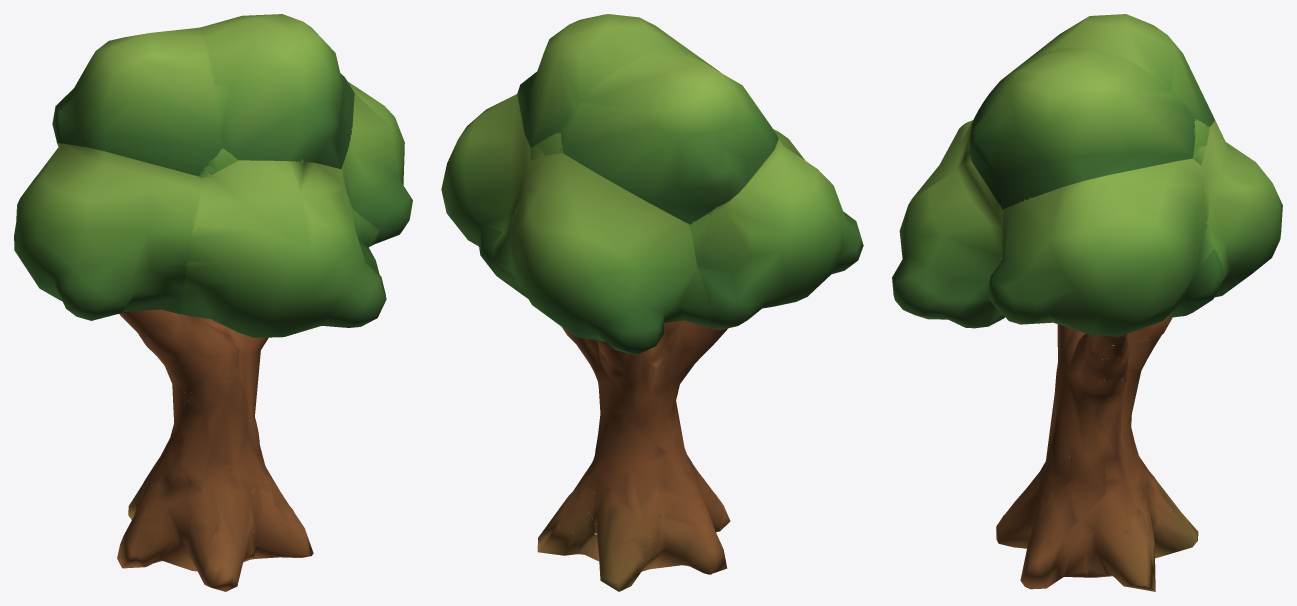
The model's file is oak-tree.glb.
3 renders of one model, left to right at view 1: azimuth 30°, elevation 25°; view 2: azimuth 150°, elevation 25°; view 3: azimuth 270°, elevation 25°, orthographic. The views are drawn at different scales.
Visible parts, largest first — view 1: crown, trunk; view 2: crown, trunk; view 3: crown, trunk.
Part boxes in pixels (box(x1,y1,x2,y2)): crown: box(14, 14, 412, 337); trunk: box(117, 309, 313, 591); crown: box(441, 14, 863, 354); trunk: box(537, 320, 730, 591); crown: box(892, 14, 1282, 336); trunk: box(996, 316, 1198, 591).
Bounding box in the file's own units: 3.43 × 4.48 × 3.07.
